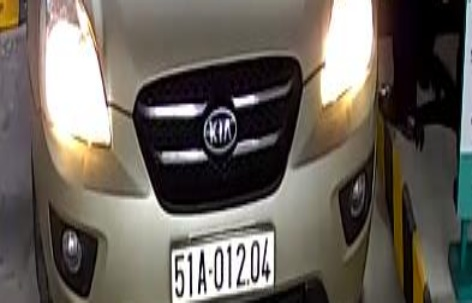plate: (170, 241, 276, 296)
